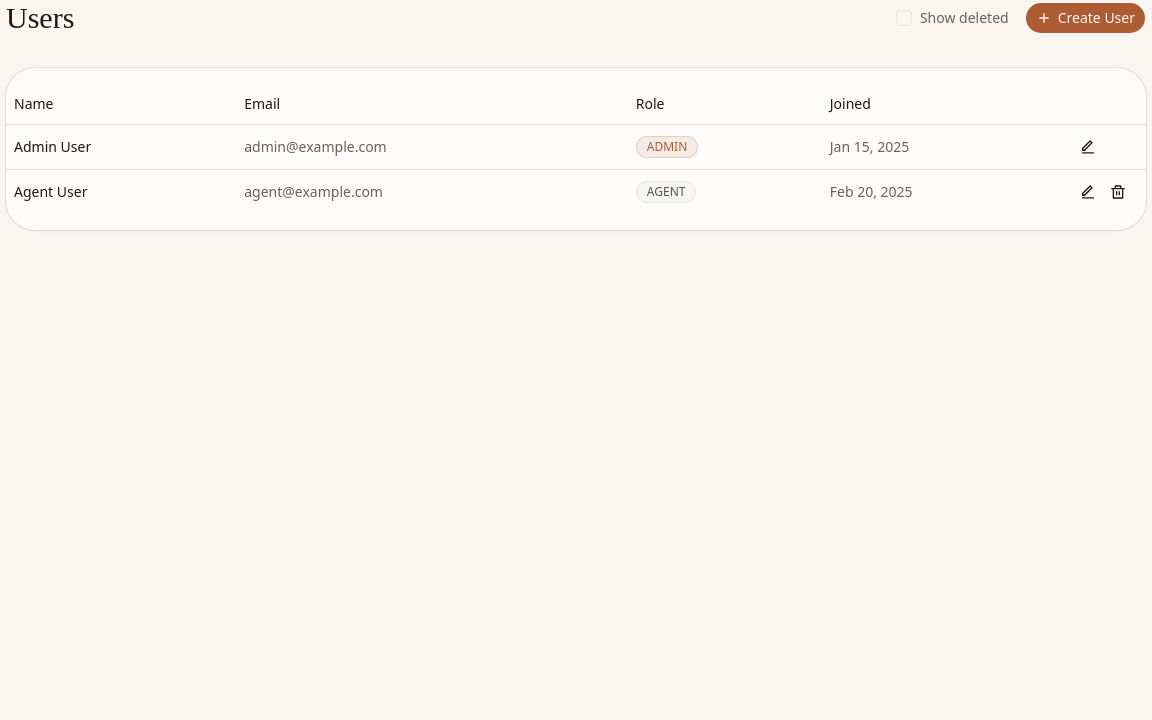
Users page › Edit User dialog › closes the edit dialog when pressing Escape
Expected: the text "Admin User" is shown, [6,124,236,169]
Step 1. Click the button named "edit admin user" → (1088, 146), box [1074,132,1102,160]
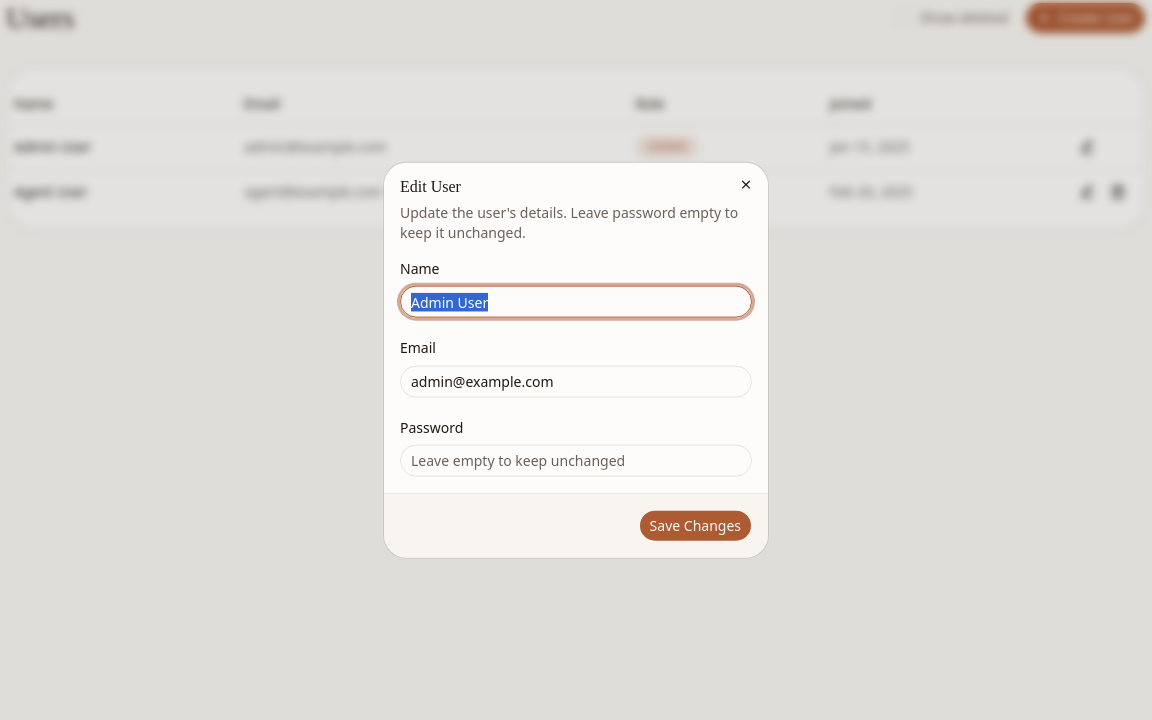
Result: the dialog is shown at [384,163,768,557]
Step 2. Press Escape
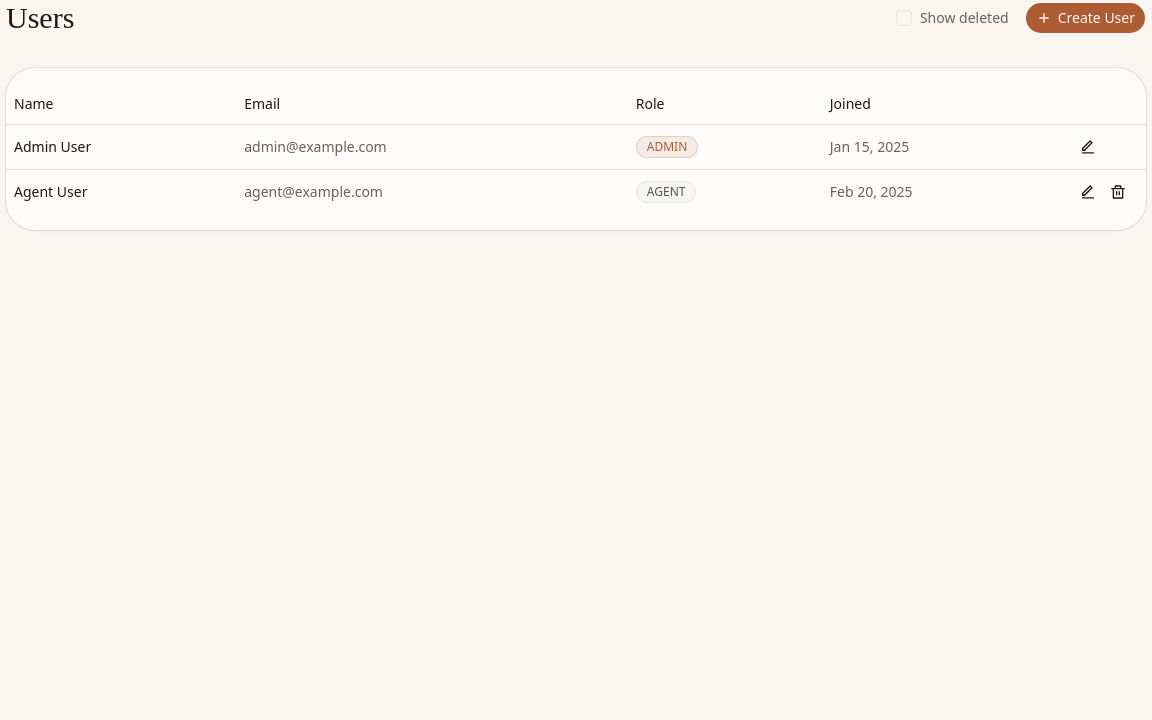
Result: the dialog is gone
